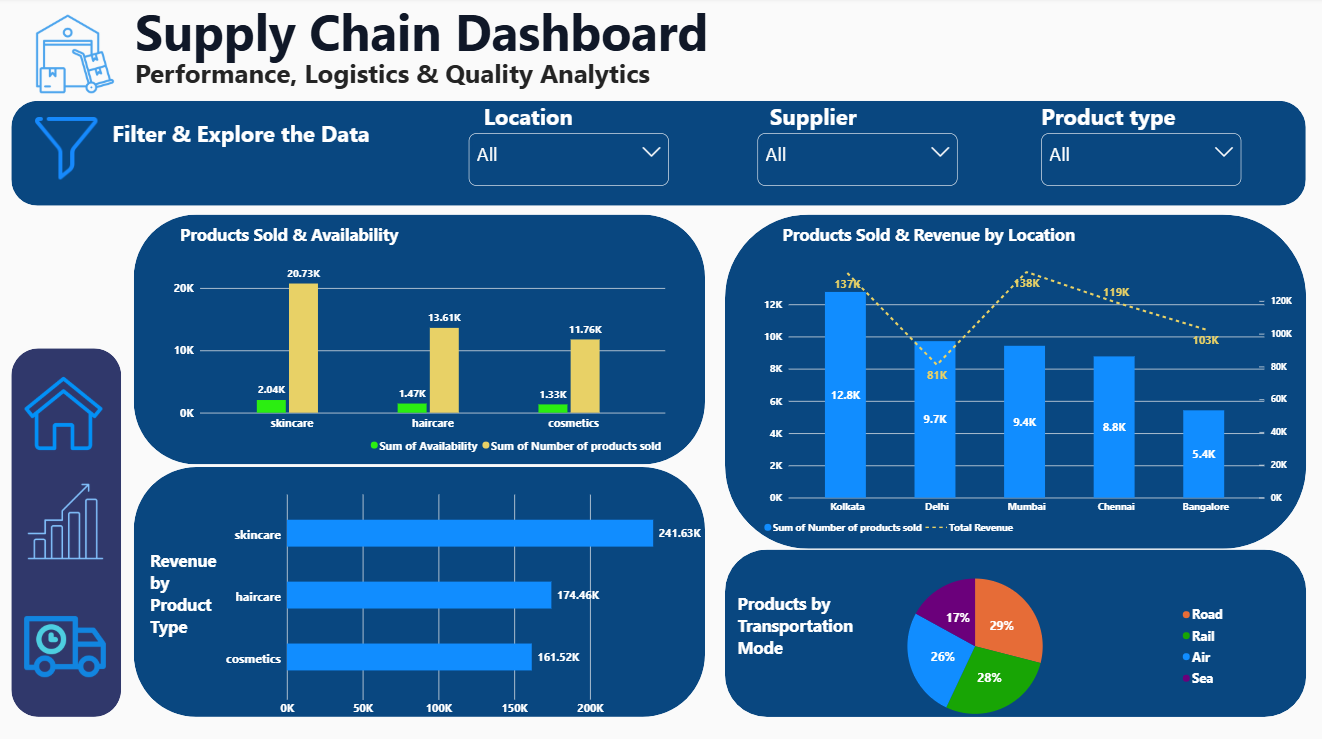

Layout of this report page (visuals, bound fields, positions):
{"tool":"powerbi","page":{"name":"Sales & Distribution","canvas":[1920,1080],"ordinal":1},"visuals":[{"type":"textbox","box":[201.5,0,1270.7,121.4],"z":0,"group":"g2"},{"type":"group","id":"g1","title":"Group 1","box":[24,149.3,1874.1,152.3],"z":0},{"type":"shape","box":[24,149.5,1874.1,152.2],"z":0,"group":"g1"},{"type":"slicer","fields":{"Values":["supply_chain_data.Location"]},"box":[686,196.9,290,75.7],"z":0,"group":"g4"},{"type":"slicer","fields":{"Values":["supply_chain_data.Supplier name"]},"box":[1103.7,196.9,290,75.7],"z":0,"group":"g7"},{"type":"slicer","fields":{"Values":["supply_chain_data.Product type"]},"box":[1514.9,196.9,290,75.7],"z":0,"group":"g10"},{"type":"shape","box":[200.9,314.9,827,361.9],"z":0,"group":"g8"},{"type":"shape","box":[1056.4,315.3,841.5,484],"z":0,"group":"g11"},{"type":"shape","box":[23.5,508.5,159.3,533.8],"z":0,"group":"g5"},{"type":"image","box":[30.6,545,136.6,112.5],"z":0,"group":"g3"},{"type":"shape","box":[200.9,680.4,827,361.9],"z":0,"group":"g13"},{"type":"image","box":[22.1,702.9,160.7,114.5],"z":0,"group":"g6"},{"type":"shape","box":[1056.8,799.8,841.5,242.5],"z":0,"group":"g12"},{"type":"image","box":[26.1,881.7,152.6,118.5],"z":0,"group":"g9"},{"type":"group","id":"g2","title":"header","box":[46.2,0,1425.9,196.8],"z":1000},{"type":"textbox","box":[201.5,85.8,1270.7,111],"z":1000,"group":"g2"},{"type":"textbox","box":[707.6,149.3,253.2,47.6],"z":1000,"group":"g4"},{"type":"textbox","box":[1121,149.3,231.6,47.6],"z":1000,"group":"g7"},{"type":"textbox","box":[1514.9,149.3,290,47.6],"z":1000,"group":"g10"},{"type":"textbox","box":[170.6,174.8,415.7,52.2],"z":1000,"group":"g1"},{"type":"textbox","box":[1138.7,327.4,574.4,48.2],"z":1000,"group":"g11"},{"type":"clusteredColumnChart","fields":{"Category":["supply_chain_data.Product type"],"Y":["Sum(supply_chain_data.Availability)","Sum(supply_chain_data.Number of products sold)"]},"box":[242.5,352.9,743.8,327.5],"z":1000,"group":"g8"},{"type":"group","id":"g3","title":"button H","box":[22.1,540.2,158.7,118.5],"z":1000,"group":"g5"},{"type":"pageNavigator","box":[22.1,540.2,158.7,118.5],"z":1000,"group":"g3"},{"type":"clusteredBarChart","fields":{"Category":["supply_chain_data.Product type"],"Y":["supply_chain_data.Total Revenue"]},"box":[317.3,698.9,740.2,363.7],"z":1000,"group":"g13"},{"type":"pageNavigator","box":[24.1,702.9,152.6,114.5],"z":1000,"group":"g6"},{"type":"pieChart","fields":{"Category":["supply_chain_data.Transportation modes"],"Y":["CountNonNull(supply_chain_data.SKU)"]},"box":[1104.6,799.3,698.9,281.2],"z":1000,"group":"g12"},{"type":"pageNavigator","box":[26.1,881.7,150.6,118.5],"z":1000,"group":"g9"},{"type":"image","box":[46.2,20.9,137.2,121.4],"z":2000,"group":"g2"},{"type":"group","id":"g4","title":"location","box":[686,149.3,290,123.4],"z":2000,"group":"g1"},{"type":"textbox","box":[267.9,327.6,539.3,48.9],"z":2000,"group":"g8"},{"type":"group","id":"g5","title":"Buttons","box":[22.1,508.5,160.7,533.8],"z":2000},{"type":"group","id":"g6","title":"button S","box":[22.1,702.9,160.7,114.5],"z":2000,"group":"g5"},{"type":"textbox","box":[225,799.3,112.5,200.8],"z":2000,"group":"g13"},{"type":"textbox","box":[1074.4,861.6,174.7,138.6],"z":2000,"group":"g12"},{"type":"group","id":"g7","title":"supplier","box":[1103.7,149.3,290,123.4],"z":3000,"group":"g1"},{"type":"group","id":"g8","title":"Products Sold & Availability","box":[200.9,314.9,827,365.6],"z":3000},{"type":"group","id":"g9","title":"button O","box":[26.1,881.7,152.6,118.5],"z":3000,"group":"g5"},{"type":"group","id":"g10","title":"product","box":[1514.9,149.3,290,123.4],"z":4000,"group":"g1"},{"type":"group","id":"g11","title":"Products Sold & Revenue by Location","box":[1056.4,315.3,841.5,484],"z":4000},{"type":"image","box":[32.1,172.7,144.6,90.4],"z":5000,"group":"g1"},{"type":"group","id":"g12","title":"Products by Transportation Mode","box":[1056.8,799.3,841.5,281.2],"z":5000},{"type":"group","id":"g13","title":"Revenue by Product Type","box":[200.9,680.4,856.6,382.2],"z":6000},{"type":"lineClusteredColumnComboChart","fields":{"Category":["supply_chain_data.Location"],"Y":["Sum(supply_chain_data.Number of products sold)"],"Y2":["supply_chain_data.Total Revenue"]},"box":[1096.6,375.6,801.3,423.8],"z":7000,"group":"g11"}]}

Visuals, with their boxes in screenshot pixels (x1, y1, x2, y2), scaled from the page's 1920x1080 canvas onto the 1322x739 screenshot:
textbox: [x1=139, y1=0, x2=1014, y2=83]
"Group 1" group: [x1=17, y1=102, x2=1307, y2=206]
shape: [x1=17, y1=102, x2=1307, y2=206]
slicer - supply_chain_data.Location: [x1=472, y1=135, x2=672, y2=187]
slicer - supply_chain_data.Supplier name: [x1=760, y1=135, x2=960, y2=187]
slicer - supply_chain_data.Product type: [x1=1043, y1=135, x2=1243, y2=187]
shape: [x1=138, y1=215, x2=708, y2=463]
shape: [x1=727, y1=216, x2=1307, y2=547]
shape: [x1=16, y1=348, x2=126, y2=713]
image: [x1=21, y1=373, x2=115, y2=450]
shape: [x1=138, y1=466, x2=708, y2=713]
image: [x1=15, y1=481, x2=126, y2=559]
shape: [x1=728, y1=547, x2=1307, y2=713]
image: [x1=18, y1=603, x2=123, y2=684]
"header" group: [x1=32, y1=0, x2=1014, y2=135]
textbox: [x1=139, y1=59, x2=1014, y2=135]
textbox: [x1=487, y1=102, x2=662, y2=135]
textbox: [x1=772, y1=102, x2=931, y2=135]
textbox: [x1=1043, y1=102, x2=1243, y2=135]
textbox: [x1=117, y1=120, x2=404, y2=155]
textbox: [x1=784, y1=224, x2=1180, y2=257]
clusteredColumnChart - supply_chain_data.Product type x Sum(supply_chain_data.Availability): [x1=167, y1=241, x2=679, y2=466]
"button H" group: [x1=15, y1=370, x2=124, y2=451]
pageNavigator: [x1=15, y1=370, x2=124, y2=451]
clusteredBarChart - supply_chain_data.Product type x supply_chain_data.Total Revenue: [x1=218, y1=478, x2=728, y2=727]
pageNavigator: [x1=17, y1=481, x2=122, y2=559]
pieChart - supply_chain_data.Transportation modes x CountNonNull(supply_chain_data.SKU): [x1=761, y1=547, x2=1242, y2=738]
pageNavigator: [x1=18, y1=603, x2=122, y2=684]
image: [x1=32, y1=14, x2=126, y2=97]
"location" group: [x1=472, y1=102, x2=672, y2=187]
textbox: [x1=184, y1=224, x2=556, y2=258]
"Buttons" group: [x1=15, y1=348, x2=126, y2=713]
"button S" group: [x1=15, y1=481, x2=126, y2=559]
textbox: [x1=155, y1=547, x2=232, y2=684]
textbox: [x1=740, y1=590, x2=860, y2=684]
"supplier" group: [x1=760, y1=102, x2=960, y2=187]
"Products Sold & Availability" group: [x1=138, y1=215, x2=708, y2=466]
"button O" group: [x1=18, y1=603, x2=123, y2=684]
"product" group: [x1=1043, y1=102, x2=1243, y2=187]
"Products Sold & Revenue by Location" group: [x1=727, y1=216, x2=1307, y2=547]
image: [x1=22, y1=118, x2=122, y2=180]
"Products by Transportation Mode" group: [x1=728, y1=547, x2=1307, y2=738]
"Revenue by Product Type" group: [x1=138, y1=466, x2=728, y2=727]
lineClusteredColumnComboChart - supply_chain_data.Location x Sum(supply_chain_data.Number of products sold): [x1=755, y1=257, x2=1307, y2=547]
